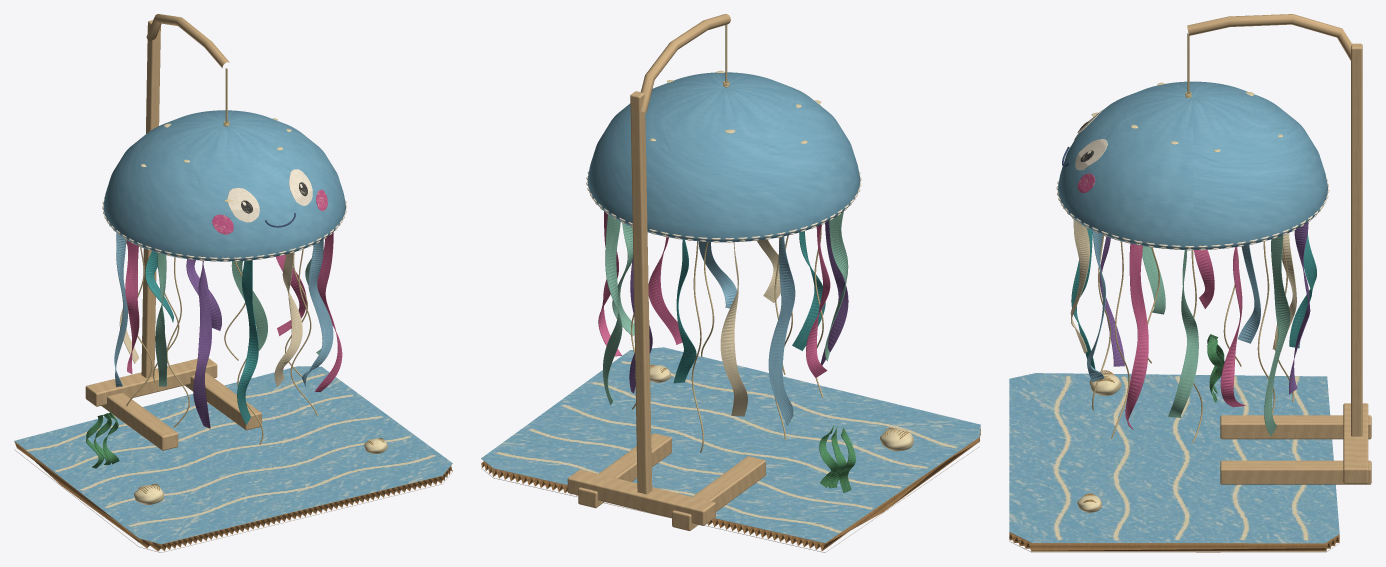
File: 26_paper_bowl_jellyfish.glb
3 views of the same model, side by side, from view 1: azimuth 30°, elevation 25°; view 2: azimuth 150°, elevation 25°; view 3: azimuth 270°, elevation 25° (orthographic). The views are drawn at different scales.
Visible parts, largest first — view 1: artwork_26_paper_bowl_jellyfish, paint_sky, wood_light, tissue_pink, flute, tissue_sky, tissue_purple, tissue_teal, paper, tissue_mint, twine, tissue_cream (+4 smaller); view 2: artwork_26_paper_bowl_jellyfish, paint_sky, wood_light, tissue_mint, tissue_sky, tissue_pink, flute, tissue_cream, tissue_teal, twine, tissue_purple, green (+3 smaller); view 3: artwork_26_paper_bowl_jellyfish, paint_sky, wood_light, tissue_mint, tissue_pink, flute, twine, tissue_cream, tissue_purple, tissue_sky, tissue_teal, paper (+3 smaller).
Boxes of the visible parts, <box> form: artwork_26_paper_bowl_jellyfish: <box>14,366,452,543</box>; paint_sky: <box>103,110,345,261</box>; wood_light: <box>85,14,261,450</box>; tissue_pink: <box>125,232,342,392</box>; flute: <box>14,441,452,551</box>; tissue_sky: <box>114,233,333,386</box>; tissue_purple: <box>186,259,221,428</box>; tissue_teal: <box>145,251,258,424</box>; paper: <box>102,169,346,261</box>; tissue_mint: <box>155,251,321,386</box>; twine: <box>126,68,317,444</box>; tissue_cream: <box>119,240,302,386</box>; artwork_26_paper_bowl_jellyfish: <box>481,347,980,542</box>; paint_sky: <box>587,72,860,242</box>; wood_light: <box>567,14,765,530</box>; tissue_mint: <box>603,211,848,404</box>; tissue_sky: <box>698,236,795,425</box>; tissue_pink: <box>598,211,830,377</box>; flute: <box>481,428,980,550</box>; tissue_cream: <box>720,239,780,416</box>; tissue_teal: <box>673,231,825,383</box>; twine: <box>631,24,823,452</box>; tissue_purple: <box>629,221,848,393</box>; green: <box>819,425,855,492</box>; artwork_26_paper_bowl_jellyfish: <box>1009,373,1339,543</box>; paint_sky: <box>1058,81,1327,249</box>; wood_light: <box>1187,14,1371,484</box>; tissue_mint: <box>1142,235,1290,436</box>; tissue_pink: <box>1125,243,1245,429</box>; flute: <box>1009,532,1339,551</box>; twine: <box>1092,33,1293,442</box>; tissue_cream: <box>1070,220,1296,353</box>; tissue_purple: <box>1099,222,1310,394</box>; tissue_sky: <box>1087,231,1260,381</box>; tissue_teal: <box>1071,228,1316,369</box>; paper: <box>1056,110,1329,250</box>.
Size of the model in its own units: 0.45 by 0.559 by 0.4045.
Materials: 23 (21 with a texture image).
